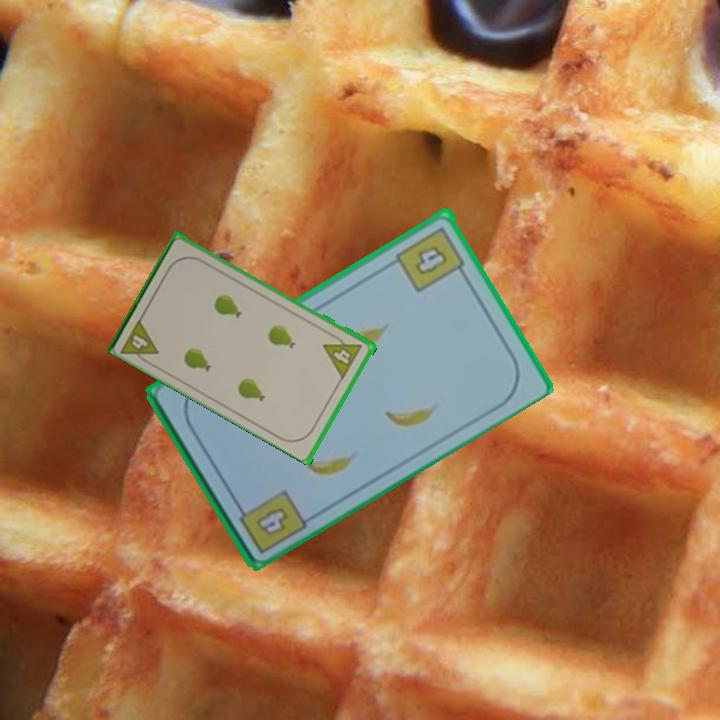4b: (392, 222, 470, 295), (230, 486, 310, 557)
4p: (117, 314, 162, 368), (320, 329, 365, 381)
